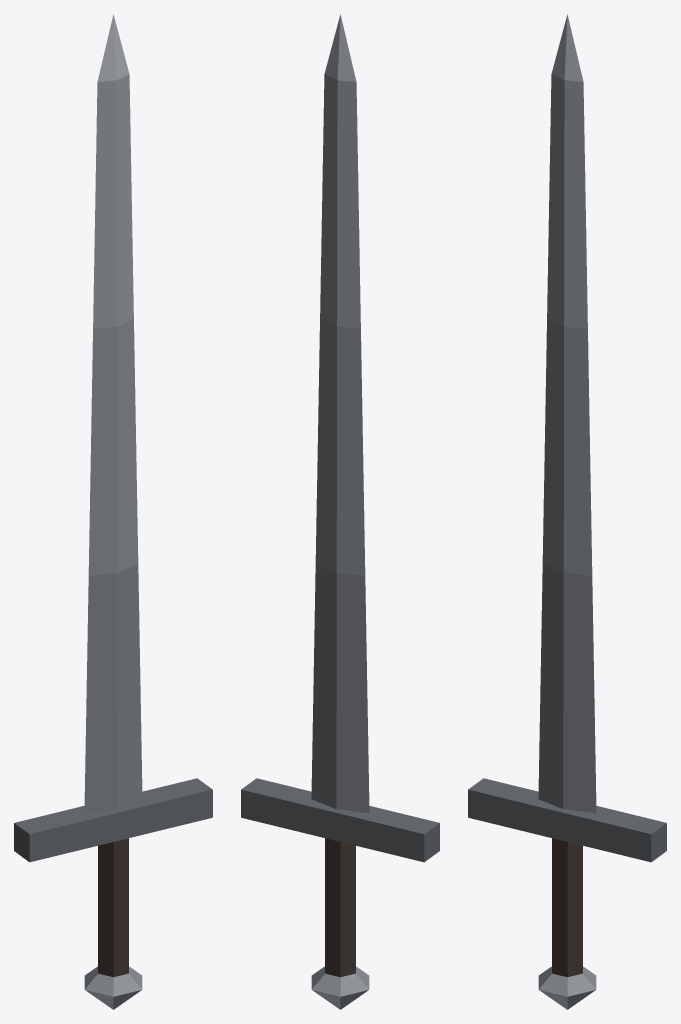
The model's file is sword_arming_steel_s1020.glb.
The picture shows the model from 3 angles, left to right: view 1: azimuth 30°, elevation 25°; view 2: azimuth 150°, elevation 25°; view 3: azimuth 330°, elevation 25°; orthographic projection.
Parts seen in each view (by area): view 1: sword_arming_steel_s1020; view 2: sword_arming_steel_s1020; view 3: sword_arming_steel_s1020.
Part boxes in pixels (x1,y1,x2,y2): sword_arming_steel_s1020: [14, 14, 212, 1009]; sword_arming_steel_s1020: [241, 14, 439, 1009]; sword_arming_steel_s1020: [468, 14, 666, 1009].
Bounding box in the file's own units: 0.1771 × 0.92 × 0.0485.
1 material, 1 textured.
